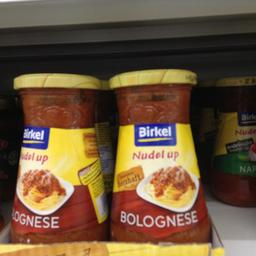tomato_sauce: (108, 68, 210, 242), (8, 71, 107, 242), (210, 73, 255, 206)
